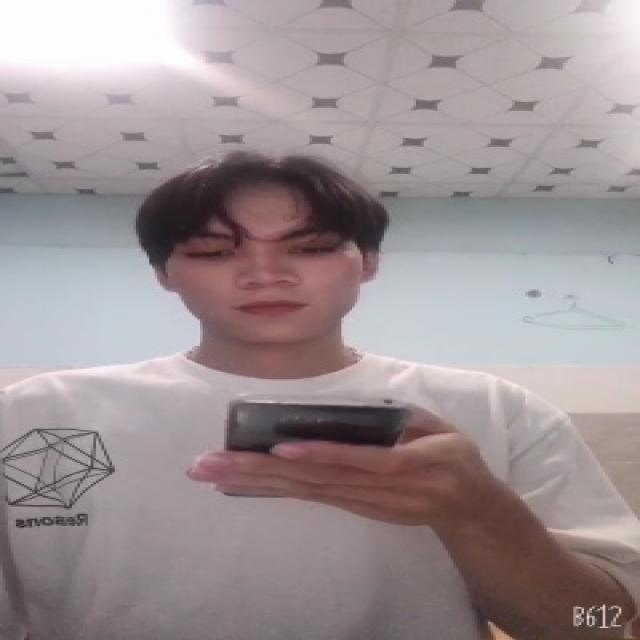Phone: (222, 398, 412, 455)
